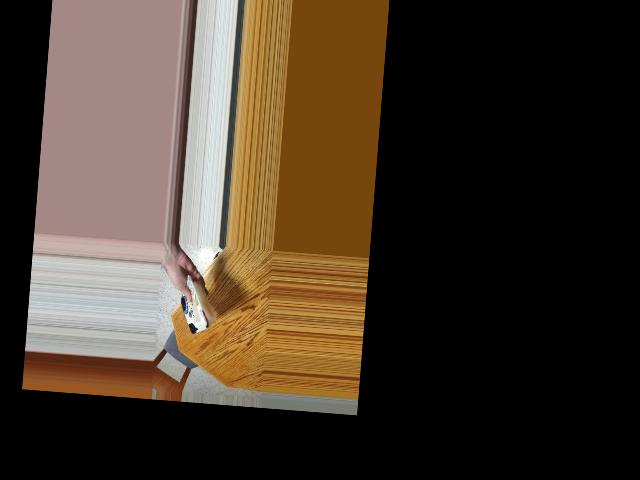cheese: (169, 282, 217, 332)
